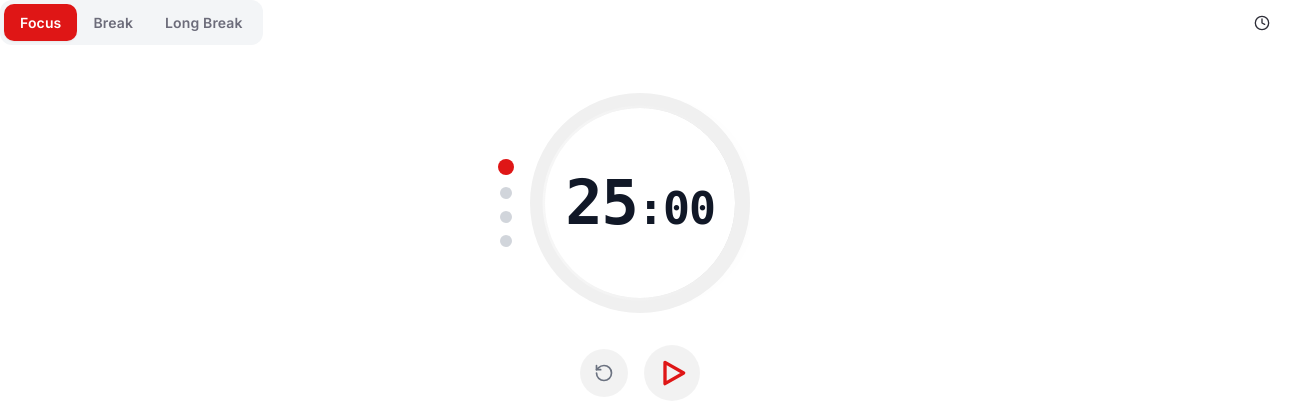
Test: Timer Functionality › should reset timer correctly
This screenshot has width=1292, height=418.
Click the button with test id "play-button" at {"x": 672, "y": 373}, box x1=644 y1=345 x2=700 y2=401
Wait 10000 ms
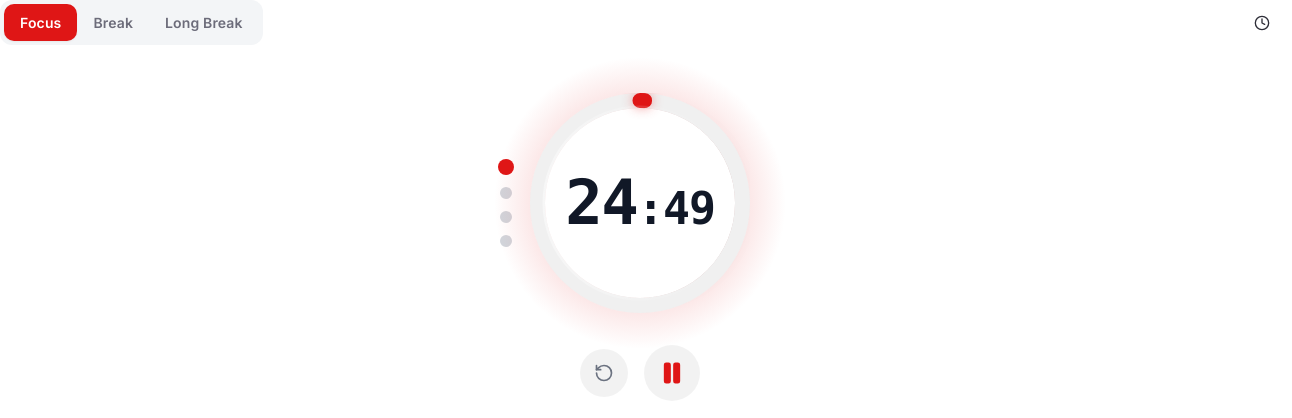
Click the button with test id "reset-button" at {"x": 604, "y": 373}, box x1=580 y1=349 x2=628 y2=397
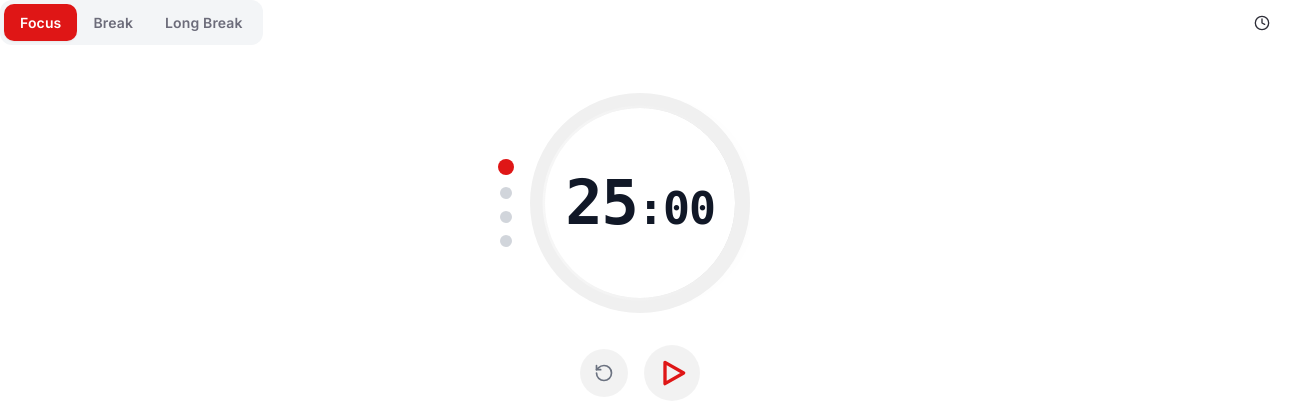
expect the button with test id "play-button" is shown: met, box x1=644 y1=345 x2=700 y2=401
